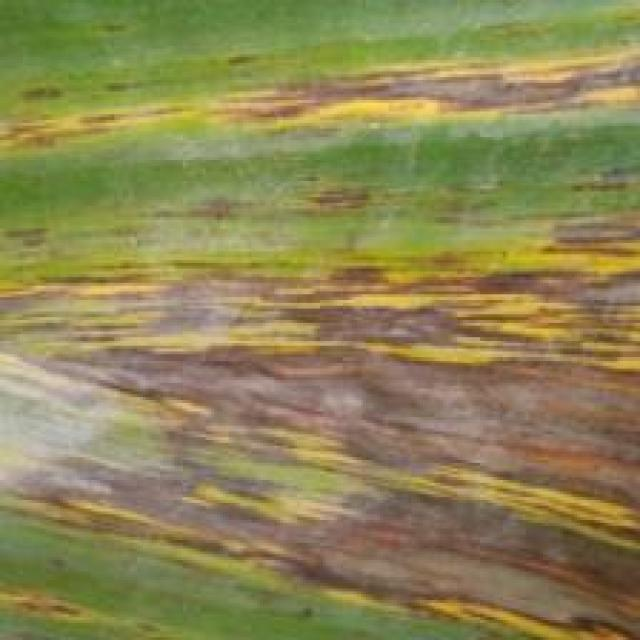Early_leaf_spot: (0, 223, 640, 640), (0, 23, 640, 158), (108, 151, 640, 251), (0, 564, 160, 638)
